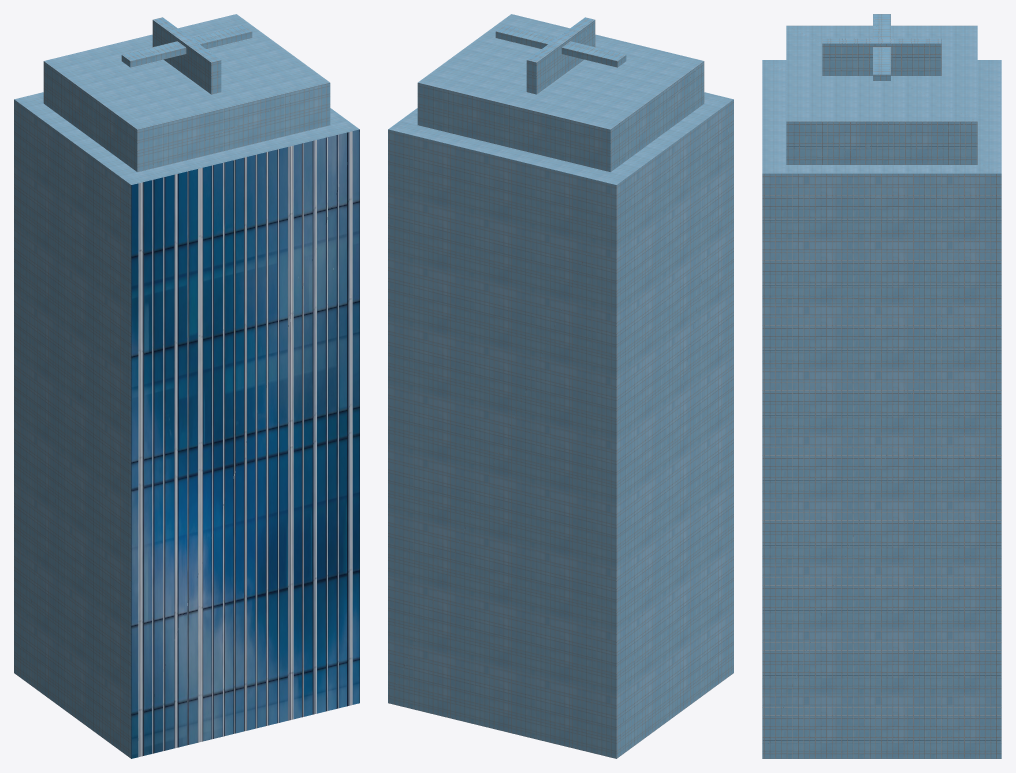
File: aurelia-hq_lod0.gltf
3 renders of one model, left to right at view 1: azimuth 30°, elevation 25°; view 2: azimuth 150°, elevation 25°; view 3: azimuth 270°, elevation 25°, orthographic.
Visible parts, largest first — view 1: aurelia-hq_front, aurelia-hq_tier0, aurelia-hq_tier1, aurelia-hq_crown; view 2: aurelia-hq_tier0, aurelia-hq_tier1, aurelia-hq_crown; view 3: aurelia-hq_tier0, aurelia-hq_tier1, aurelia-hq_crown.
Boxes of the visible parts, x1,y1,x2,y2 form: aurelia-hq_front: (131,129,359,758); aurelia-hq_tier0: (14,92,359,758); aurelia-hq_tier1: (43,14,330,171); aurelia-hq_crown: (121,17,252,94); aurelia-hq_tier0: (388,92,733,758); aurelia-hq_tier1: (417,14,704,171); aurelia-hq_crown: (495,17,626,94); aurelia-hq_tier0: (762,60,1001,758); aurelia-hq_tier1: (786,25,977,164); aurelia-hq_crown: (822,14,941,80).
Size of the model in its own units: 45 by 122 by 40.
